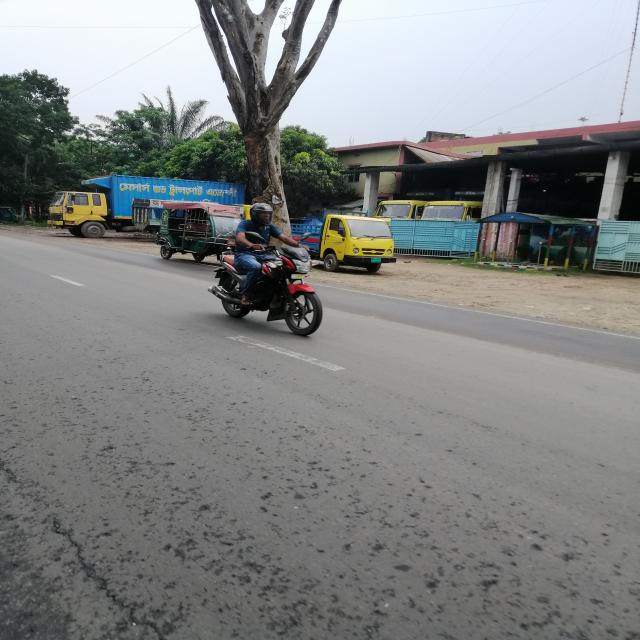Motorbike: (205, 253, 334, 341)
Pick-up-van: (317, 212, 398, 274)
Truck: (41, 171, 134, 237)
